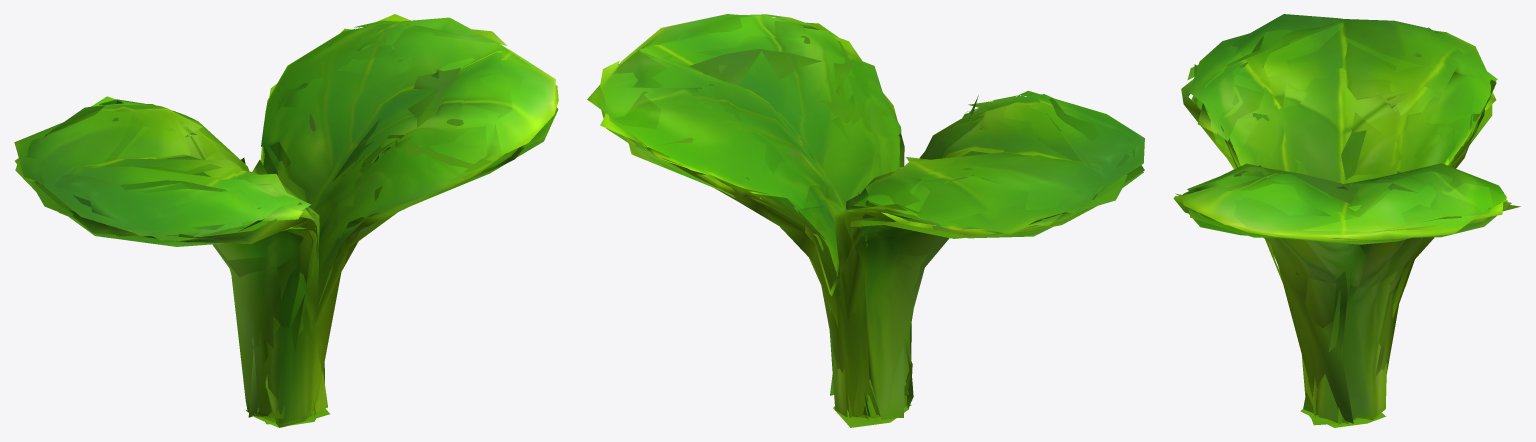
Rendered from A1-vine_sprout-runtime.glb.
The picture shows the model from 3 angles, left to right: view 1: azimuth 30°, elevation 25°; view 2: azimuth 150°, elevation 25°; view 3: azimuth 270°, elevation 25°; orthographic projection.
Visible parts, largest first — view 1: world; view 2: world; view 3: world.
Boxes of the visible parts, left/top/right/bottom form: world: left=14, top=14, right=558, bottom=427; world: left=587, top=14, right=1144, bottom=427; world: left=1173, top=14, right=1520, bottom=427.
Bounding box in the file's own units: 0.0809 × 0.0512 × 0.051.
Materials: 1 (1 with a texture image).
